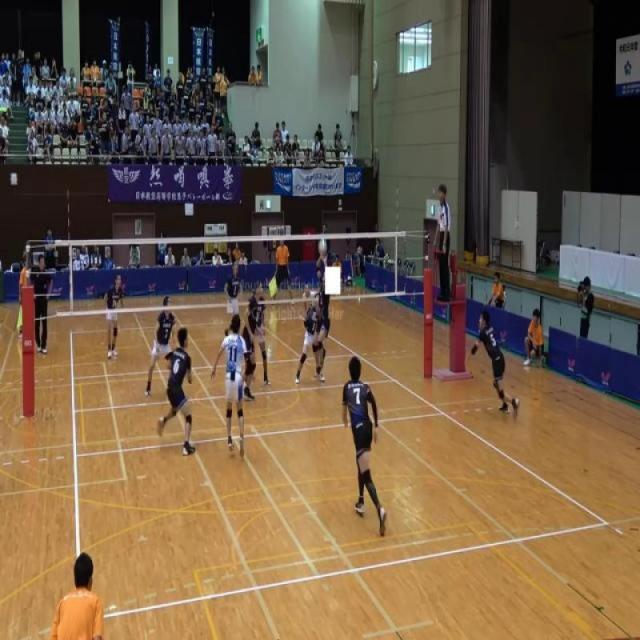volleyball: (317, 239, 328, 256)
